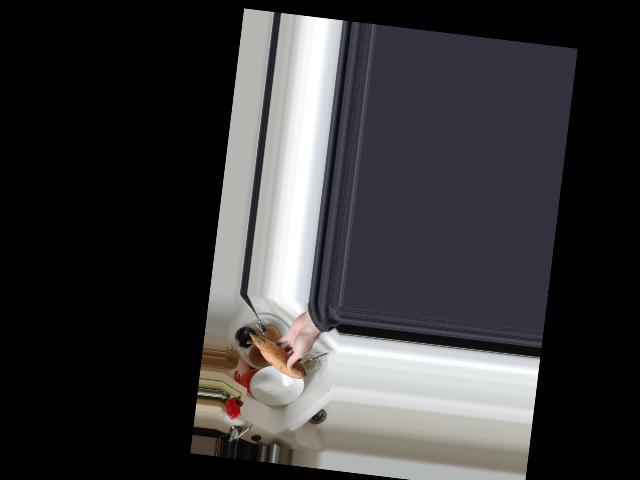sweet_potato: (246, 331, 311, 381)
